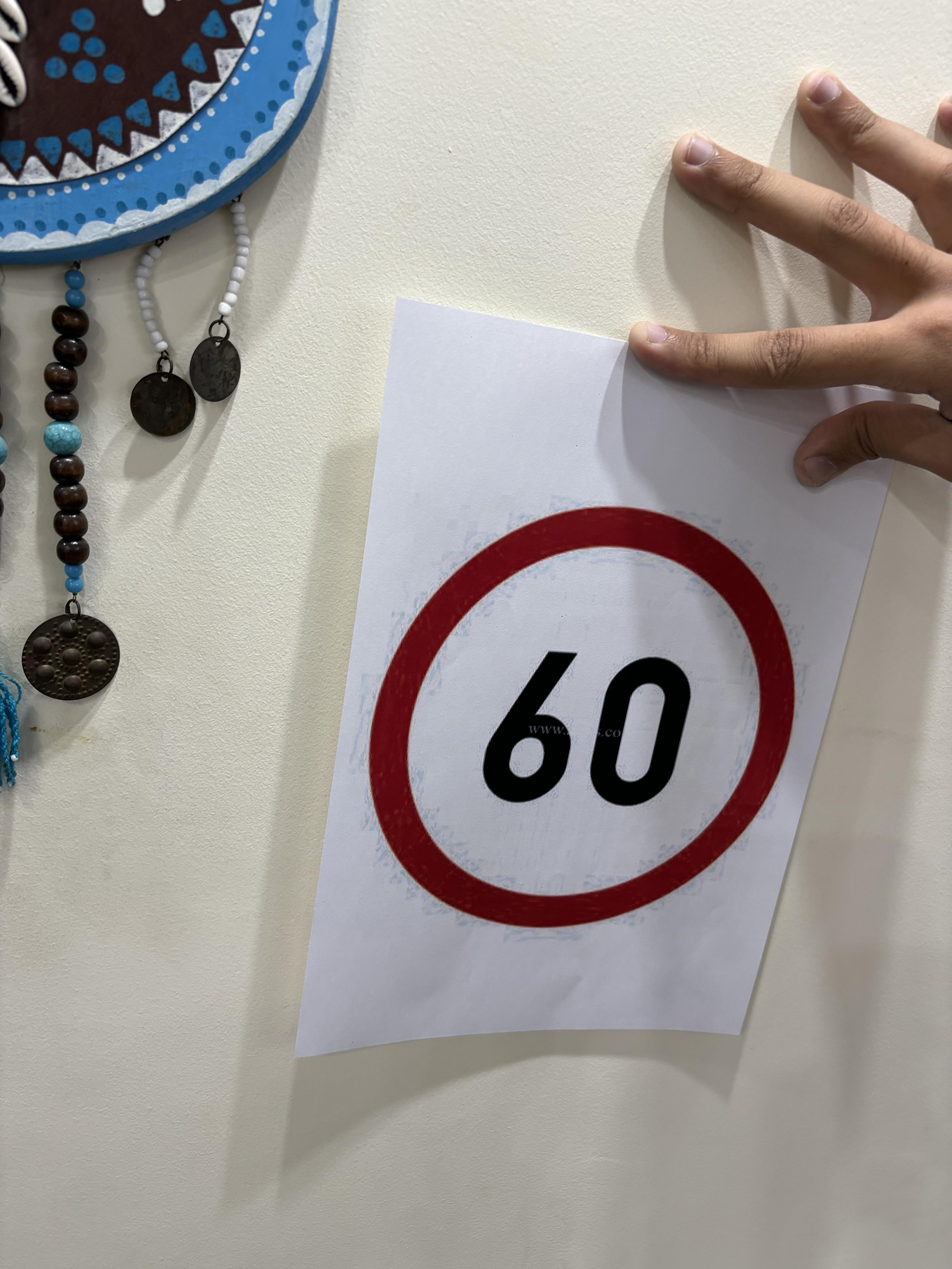60-Speed: (367, 491, 802, 925)
